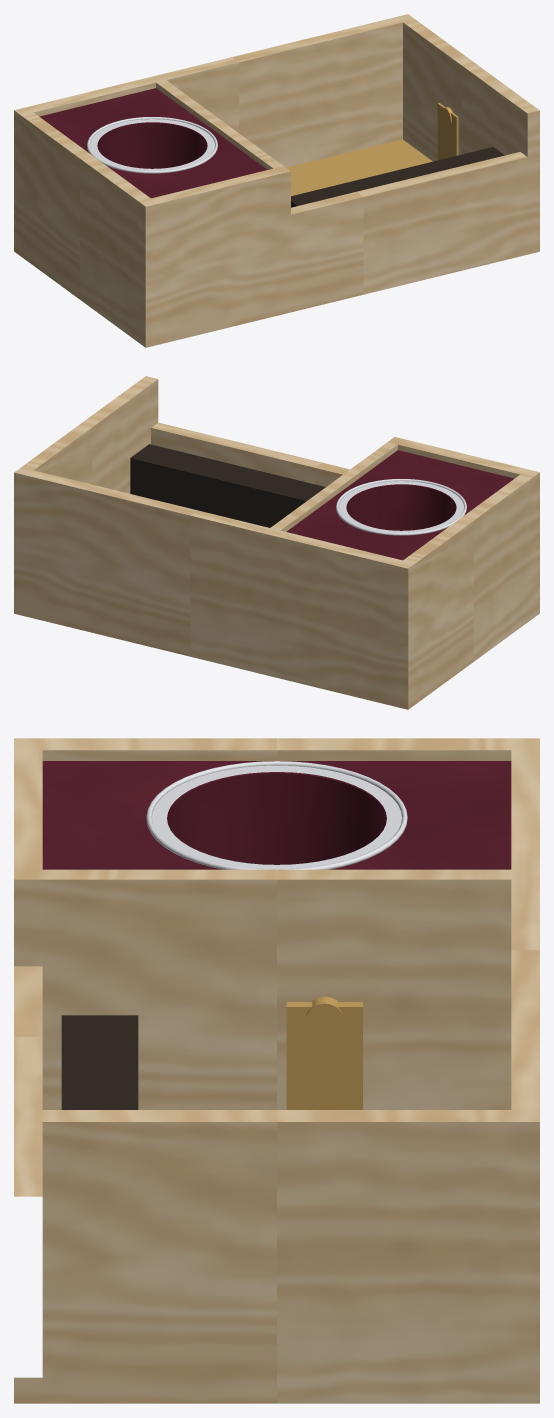
File: box_maple.glb
3 renders of one model, top to bottom at view 1: azimuth 30°, elevation 25°; view 2: azimuth 150°, elevation 25°; view 3: azimuth 270°, elevation 25°, orthographic. The views are drawn at different scales.
Parts seen in each view (by area): view 1: box_maple; view 2: box_maple; view 3: box_maple.
Boxes of the visible parts, x1,y1,x2,y2 form: box_maple: [14, 14, 539, 347]; box_maple: [14, 376, 539, 709]; box_maple: [14, 738, 539, 1403].
Size of the model in its own units: 0.38 by 0.13 by 0.22.
5 materials, 2 textured.
